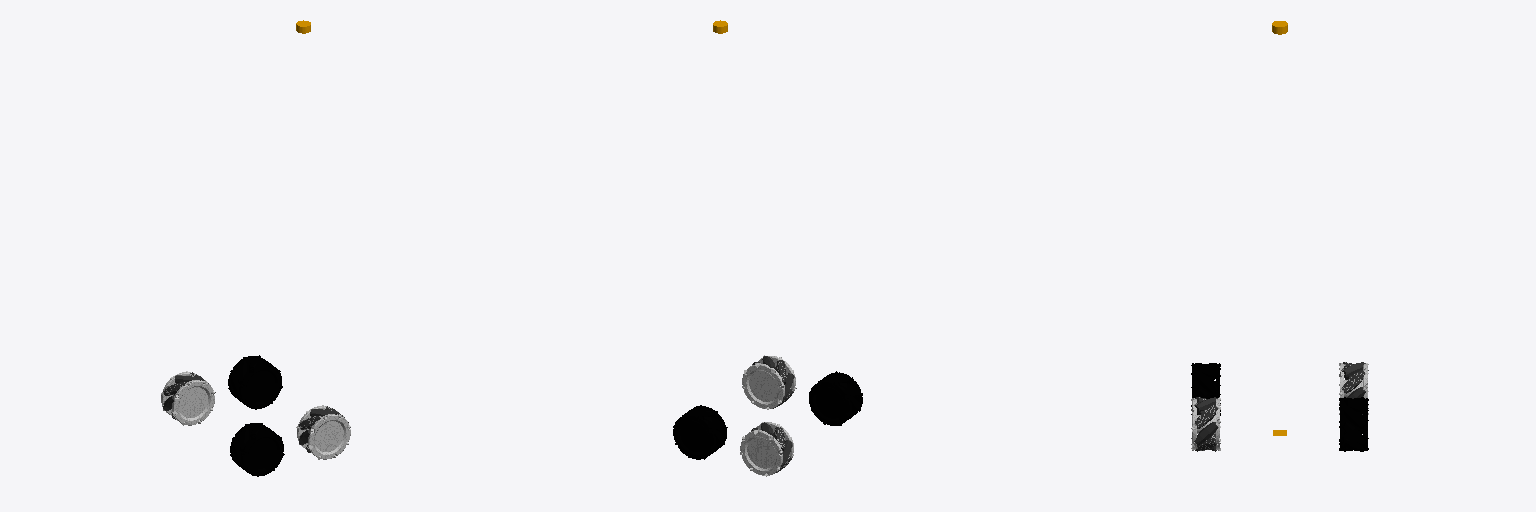
URDF robot description (WPV4_MW):
<?xml version="1.0"?>
<robot name="WPV4_MW">

  <!-- material -->
  <material name = "black">
    <color rgba = "0.01 0.01 0.01 1"/>
  </material>
  <material name = "grey">
    <color rgba = "0.2 0.2 0.2 1"/>
  </material>
  <material name = "blue">
    <color rgba = "0.2 0.2 0.9 1"/>
  </material>


<link name="base_footprint">
    <visual>
      <origin xyz="0 0 0" rpy="0 0 0" />
      <geometry>
        <box size="0.05 0.05 0.001" />
      </geometry>
      <material name="TransparentGreen" />
    </visual>
    <collision>
      <origin xyz="0 0 .1" rpy="0 0 0" />
      <geometry>
        <box size="0.76 0.5 .2"/>
      </geometry>
    </collision>
    <inertial>
    <mass value="10"/>
    <inertia ixx="0.4" ixy="0.0" ixz="0.0" iyy="0.4" iyz="0.0" izz="0.2"/>
    </inertial>
</link>

<joint name="base_joint" type="fixed">
  <origin xyz="0 0 0.06" rpy="0 0 0" />
  <parent link="base_footprint"/>
  <child link="base_link" />
</joint>

  <!-- base -->
  <link name="base_link">
  <visual>
   <geometry>
    <cylinder length="0.6" radius="0.0"/>
   </geometry>
   <origin rpy = "0 0 0" xyz = "0 0 0"/>
  </visual>
  </link>

  <!-- body -->
  <link name = "body_link">
    <visual>
      <geometry>
        <mesh filename="package://wpv4_bringup/meshes/body.dae" scale="1 1 1"/>
      </geometry>
      <origin rpy = "1.57 0 1.57" xyz = "-0.38 -0.25 0"/>
    </visual>
    <collision>
      <origin xyz="0 0 .15" rpy="0 0 0" />
      <geometry>
        <box size="0.76 0.5 0.095"/>
      </geometry>
    </collision>
    <inertial>
    <mass value="10"/>
    <inertia ixx="0.4" ixy="0.0" ixz="0.0" iyy="0.4" iyz="0.0" izz="0.2"/>
    </inertial>
  </link>
  <joint name = "base_to_body" type = "fixed">
    <parent link = "base_link"/>
    <child link = "body_link"/>
    <origin rpy="0 0 0" xyz="0 0 0"/> <!--pos-->
  </joint>
  <gazebo reference = "body_link">
            <turnGravityOff>false</turnGravityOff>
  </gazebo>

  <!-- wheel -->
  <link name = "lf_wheel">
    <visual>
      <geometry>
        <mesh filename="package://wpv4_bringup/meshes/mecanum_left.dae" scale="0.001 0.001 0.001"/>
      </geometry>
      <origin rpy = "1.57 0 0" xyz = "-0.098  0.07 -0.098"/>
      <material name = "black"/>
    </visual>
    <collision>
      <origin xyz="0 0 0" rpy="1.57 0 0" />
      <geometry>
        <cylinder radius="0.13" length="0.08"/>
      </geometry>
    </collision>
    <inertial>
    <mass value="10"/>
    <inertia ixx="0.4" ixy="0.0" ixz="0.0" iyy="0.4" iyz="0.0" izz="0.2"/>
    </inertial>
  </link>
  <joint name = "base_to_lf_wheal" type = "continuous">
    <axis rpy="0 0 0" xyz="0 1 0"/>
    <parent link = "base_link"/>
    <child link = "lf_wheel"/>
    <origin rpy="0 0 0" xyz="0.135 0.26 0.038"/> <!--pos to base-->
  </joint>
   <gazebo reference = "lf_wheel">
            <mu1 value = "1.0"/>
            <mu2 value = "1.0"/>
            <kp value = "10.0"/>
            <kd value = "1.0"/>
            <fdir1 value = "1 0 0"/>
            <turnGravityOff>true</turnGravityOff>
  </gazebo>

<link name = "rf_wheel">
  <visual>
    <geometry>
      <mesh filename="package://wpv4_bringup/meshes/mecanum_right.dae" scale="0.001 0.001 0.001"/>
      </geometry>
      <origin rpy = "1.57 0 0" xyz = "-0.10 0.07 -0.10"/>
  </visual>
  <collision>
    <origin xyz="0 0 0" rpy="1.57 0 0" />
    <geometry>
      <cylinder radius="0.13" length="0.08"/>
    </geometry>
  </collision>
  <inertial>
  <mass value="10"/>
  <inertia ixx="0.4" ixy="0.0" ixz="0.0" iyy="0.4" iyz="0.0" izz="0.2"/>
  </inertial>
</link>
<joint name = "base_to_rf_wheal" type = "continuous">
  <axis rpy="0 0 0" xyz="0 -1 0"/>
  <parent link = "base_link"/>
  <child link = "rf_wheel"/>
  <origin rpy="0 0 3.14" xyz="0.135 -0.26 0.038"/> <!--pos-->
</joint>
 <gazebo reference = "rf_wheel">
            <mu1 value = "1.0"/>
            <mu2 value = "1.0"/>
            <kp value = "10.0"/>
            <kd value = "1.0"/>
            <fdir1 value = "1 0 0"/>
            <turnGravityOff>false</turnGravityOff>
        </gazebo>

<link name = "lb_wheel">
  <visual>
    <geometry>
     <mesh filename="package://wpv4_bringup/meshes/mecanum_right.dae" scale="0.001 0.001 0.001"/>
      </geometry>
      <origin rpy = "1.57 0 0" xyz = "-0.10  0.07 -0.10"/>
  </visual>
  <collision>
    <origin xyz="0 0 0" rpy="1.57 0 0" />
    <geometry>
      <cylinder radius="0.13" length="0.08"/>
    </geometry>
  </collision>
  <inertial>
  <mass value="10"/>
  <inertia ixx="0.4" ixy="0.0" ixz="0.0" iyy="0.4" iyz="0.0" izz="0.2"/>
  </inertial>
</link>
<joint name = "base_to_lb_wheal" type = "continuous">
  <axis rpy="0 0 0" xyz="0 1 0"/>
  <parent link = "base_link"/>
  <child link = "lb_wheel"/>
  <origin rpy="0 0 0" xyz="-0.175 0.26 0.038"/> <!--pos to base-->
</joint>
 <gazebo reference = "lb_wheel">
            <mu1 value = "1.0"/>
            <mu2 value = "1.0"/>
            <kp value = "10.0"/>
            <kd value = "1.0"/>
            <fdir1 value = "1 0 0"/>
            <turnGravityOff>false</turnGravityOff>
        </gazebo>

<link name = "rb_wheel">
  <visual>
    <geometry>
      <mesh filename="package://wpv4_bringup/meshes/mecanum_left.dae" scale="0.001 0.001 0.001"/>
      </geometry>
      <origin rpy = "1.57 0 0" xyz = "-0.10  0.07 -0.10"/>
    <material name = "black"/>
  </visual>
  <collision>
    <origin xyz="0 0 0" rpy="1.57 0 0" />
    <geometry>
      <cylinder radius="0.13" length="0.08"/>
    </geometry>
  </collision>
  <inertial>
  <mass value="10"/>
  <inertia ixx="0.4" ixy="0.0" ixz="0.0" iyy="0.4" iyz="0.0" izz="0.2"/>
  </inertial>
</link>
<joint name = "base_to_rb_wheal" type = "continuous">
  <axis rpy="0 0 0" xyz="0 -1 0"/>
  <parent link = "base_link"/>
  <child link = "rb_wheel"/>
  <origin rpy="0 0 3.14" xyz="-0.175 -0.26 0.038"/> <!--pos-->
</joint>
 <gazebo reference = "rb_wheel">
            <mu1 value = "1.0"/>
            <mu2 value = "1.0"/>
            <kp value = "10.0"/>
            <kd value = "1.0"/>
            <fdir1 value = "1 0 0"/>
            <turnGravityOff>false</turnGravityOff>
        </gazebo>

<!-- Lidar -->
<link name = "laser">
  <visual>
   <geometry>
    <cylinder length="0" radius="0"/>
   </geometry>
   <origin rpy = "0 0 0" xyz = "0 0 0"/>
  </visual>
  <collision>
    <origin xyz="0 0 0" rpy="0 0 0" />
    <geometry>
      <cylinder radius="0.03" length="0.03"/>
    </geometry>
  </collision>
  <inertial>
  <mass value="10"/>
  <inertia ixx="0.4" ixy="0.0" ixz="0.0" iyy="0.4" iyz="0.0" izz="0.2"/>
  </inertial>
</link>
<joint name="laser_joint" type="fixed">
    <origin rpy="0 0 0" xyz="0.2 0 0"  /> <!--pos-->
    <parent link="base_link" />
    <child link="laser" />
</joint>

<!-- velodyne -->
<link name = "velo_link">
  <visual>
   <geometry>
    <cylinder length="0.03" radius="0.03"/>
   </geometry>
   <origin rpy = "0 0 0" xyz = "0 0 0"/>
  </visual>
</link>
<joint name="velodyne_joint" type="fixed">
    <origin rpy="0 0 0" xyz="0.2 0 1.7"  /> <!--pos-->
    <parent link="base_link" />
    <child link="velo_link" />
</joint>

<!-- Kinect -->
<link name = "kinect2_ir_optical_frame">
  <visual>
   <geometry>
    <box size="0 .0 0"/>
   </geometry>
   <origin rpy = "0 0 0" xyz = "0 0 0"/>
   <material name = "blue"/>
  </visual>
</link>
<joint name="kinect_joint" type="fixed">
    <origin xyz="0.2 0 0.2" rpy="-1.5707963 0 -1.5707963" /> <!--pos-->
    <parent link="base_link" />
    <child link="kinect2_ir_optical_frame" />
</joint>

<!-- Gazebo plugin for ROS Control -->
<gazebo>
  <plugin name="gazebo_ros_control" filename="libgazebo_ros_control.so">
    <robotNamespace>/</robotNamespace>
  </plugin>
</gazebo>

</robot>

--- Render facts (derived) ---
Views: 3 orthographic renders of the robot side by side, from view 1: azimuth 30°, elevation 25°; view 2: azimuth 150°, elevation 25°; view 3: azimuth 270°, elevation 25°.
Robot: WPV4_MW — 10 links, 9 joints (4 continuous, 5 fixed); root link base_footprint; default pose: all joints at 0.
Visible links, largest first — view 1: rf_wheel, lb_wheel, lf_wheel, rb_wheel; view 2: lb_wheel, rf_wheel, lf_wheel, rb_wheel; view 3: lf_wheel, rf_wheel, lb_wheel, rb_wheel.
Boxes of the visible links, x1=… form: rf_wheel: x1=296, y1=405, x2=350, y2=459; lb_wheel: x1=161, y1=371, x2=215, y2=425; lf_wheel: x1=228, y1=355, x2=282, y2=409; rb_wheel: x1=230, y1=423, x2=284, y2=476; lb_wheel: x1=740, y1=422, x2=793, y2=476; rf_wheel: x1=742, y1=355, x2=796, y2=409; lf_wheel: x1=673, y1=405, x2=727, y2=459; rb_wheel: x1=809, y1=371, x2=862, y2=425; lf_wheel: x1=1339, y1=397, x2=1368, y2=451; rf_wheel: x1=1191, y1=397, x2=1220, y2=451; lb_wheel: x1=1339, y1=362, x2=1368, y2=414; rb_wheel: x1=1191, y1=363, x2=1220, y2=415.
Bounding box of the posed robot: 0.51 × 0.6604 × 2.02 m (x, y, z).
4 mesh visuals loaded from 3 distinct referenced files (2 Collada DAE); not drawn: 1 (file found but could not be loaded).
